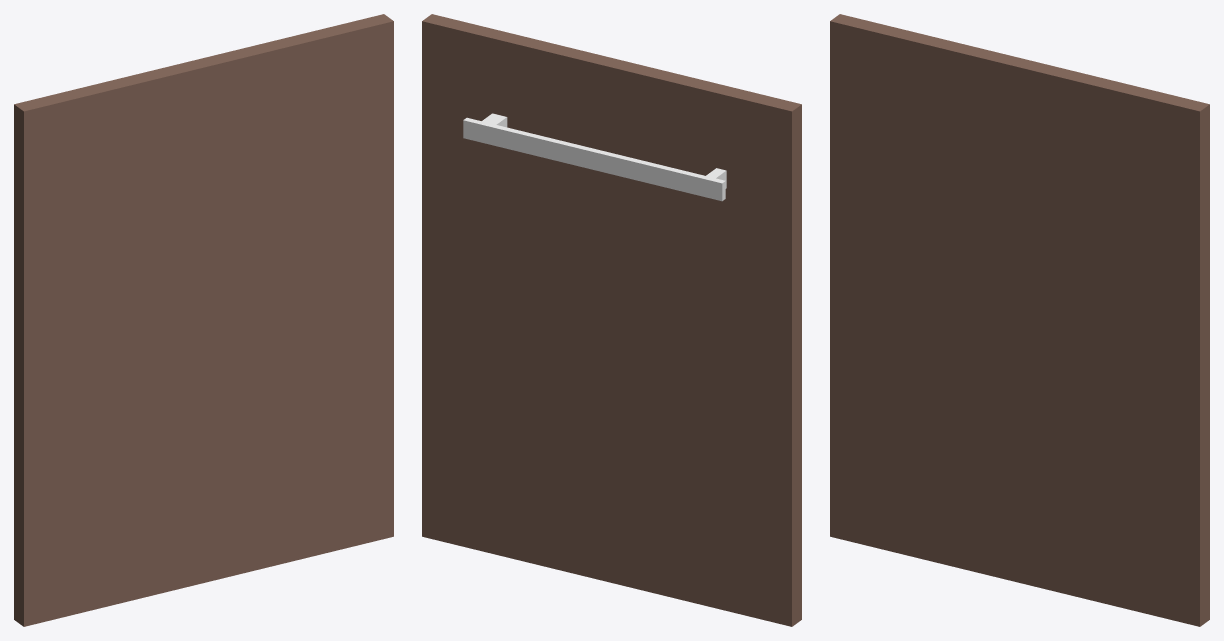
File: cabinet_wood_small_door.glb
3 renders of one model, left to right at view 1: azimuth 30°, elevation 25°; view 2: azimuth 150°, elevation 25°; view 3: azimuth 330°, elevation 25°, orthographic.
Visible parts, largest first — view 1: ABA 3; view 2: ABA 3; view 3: ABA 3.
Part boxes in pixels (x1=…): ABA 3: x1=14, y1=14, x2=393, y2=626; ABA 3: x1=422, y1=14, x2=801, y2=626; ABA 3: x1=830, y1=14, x2=1209, y2=626.
Bounding box in the file's own units: 1.87 × 2.48 × 0.2111.
